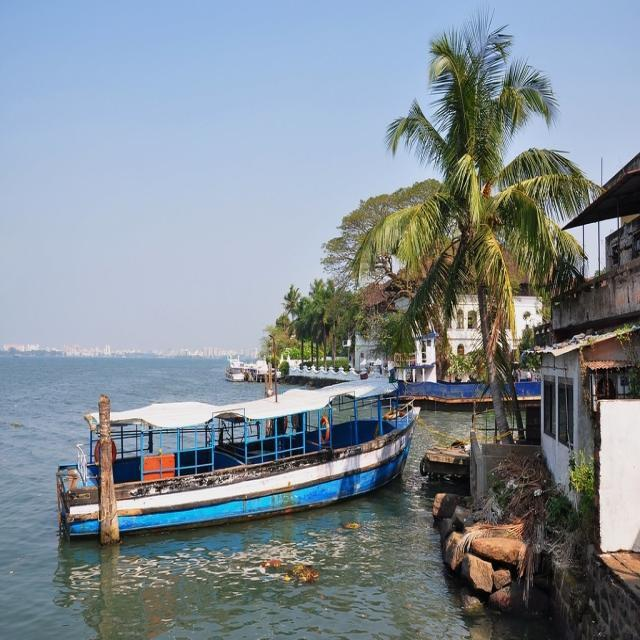boat: (41, 377, 419, 562), (226, 359, 247, 384)
